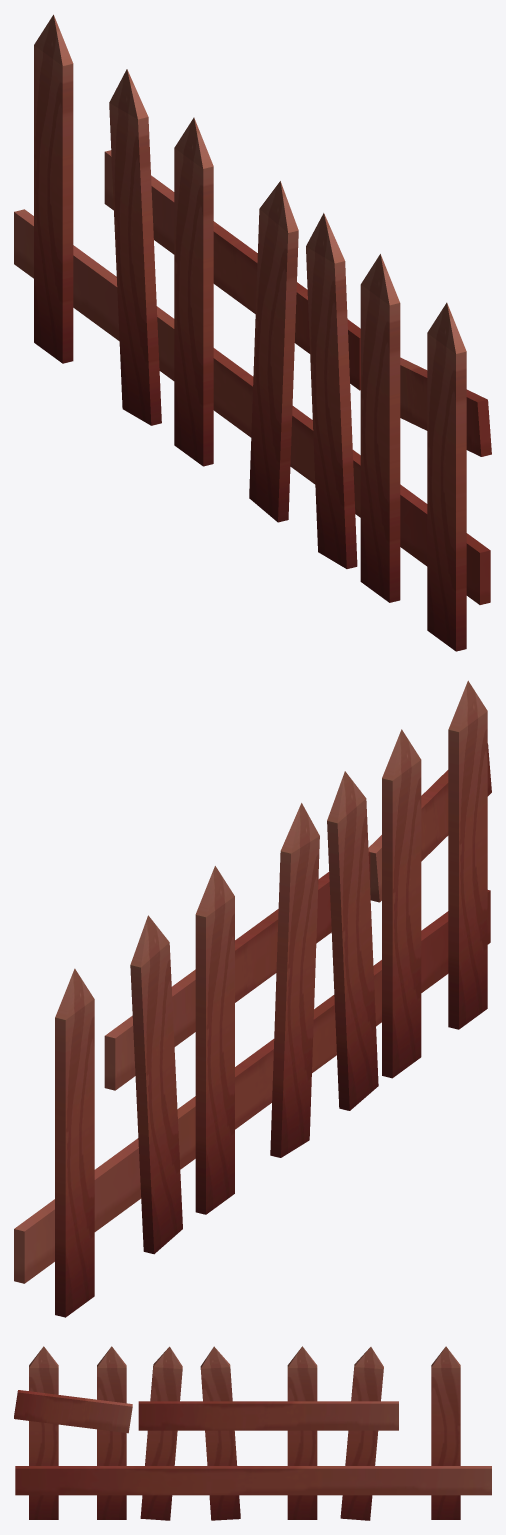
Rendered from SM_WoodenFence.fbx.
3 views of the same model, one above another, from view 1: azimuth 30°, elevation 25°; view 2: azimuth 150°, elevation 25°; view 3: azimuth 270°, elevation 25° (orthographic). The views are drawn at different scales.
Visible parts, largest first — view 1: Cube.085; view 2: Cube.085; view 3: Cube.085.
Part boxes in pixels (x1,y1,x2,y2): Cube.085: [14, 14, 491, 651]; Cube.085: [14, 680, 491, 1317]; Cube.085: [14, 1346, 491, 1520].
Bounding box in the file's own units: 4.43 × 67.92 × 170.
